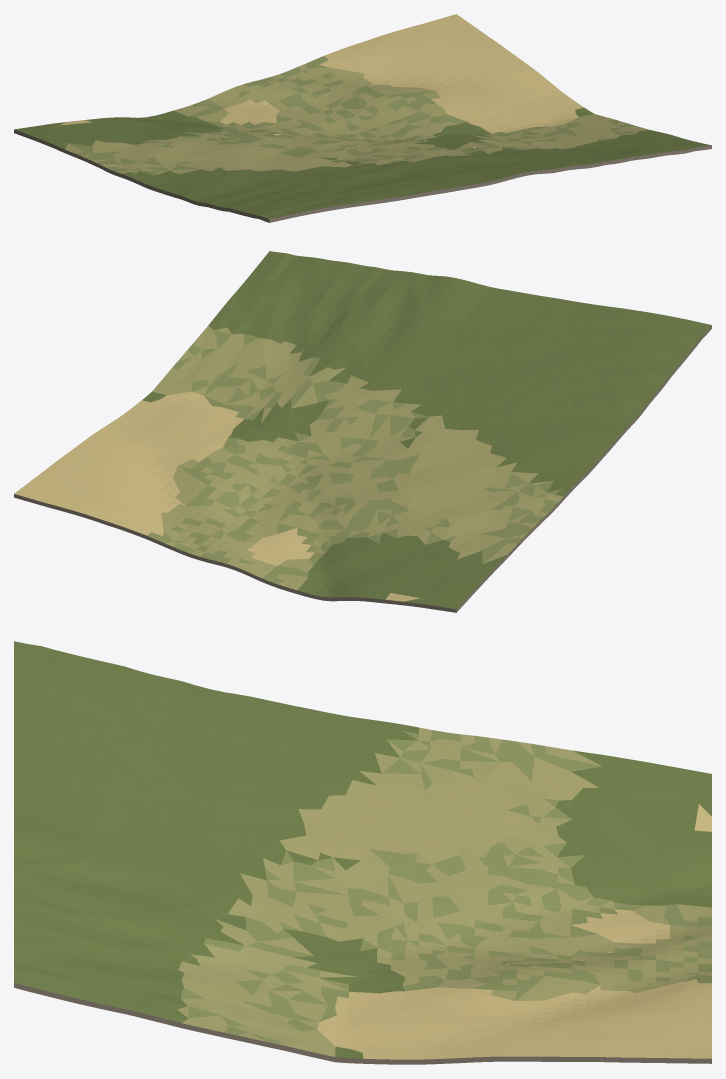
File: parca_+7_+1-uzak.glb
3 views of the same model, one above another, from view 1: azimuth 30°, elevation 25°; view 2: azimuth 150°, elevation 25°; view 3: azimuth 270°, elevation 25° (orthographic). The views are drawn at different scales.
Parts seen in each view (by area): view 1: parca_+7_+1_arazi_uzak; view 2: parca_+7_+1_arazi_uzak; view 3: parca_+7_+1_arazi_uzak.
Boxes of the visible parts, x1,y1,x2,y2 form: parca_+7_+1_arazi_uzak: (14,14,711,222); parca_+7_+1_arazi_uzak: (14,251,711,612); parca_+7_+1_arazi_uzak: (14,641,711,1064).
Size of the model in its own units: 1000 by 262 by 1000.
